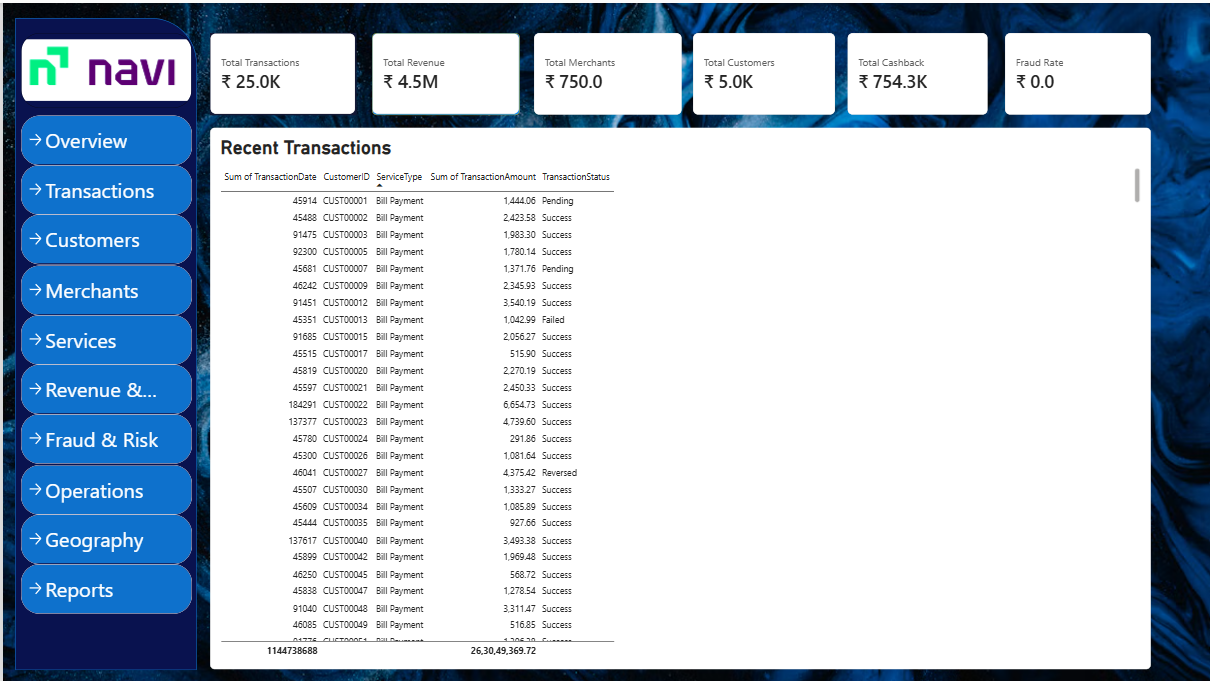

What the dashboard file says about the page in this screenshot:
{"tool":"powerbi","page":{"name":"Operations","canvas":[1920,1080],"ordinal":8},"visuals":[{"type":"cardVisual","fields":{"Data":["_Measures.Total Transactions"]},"box":[328.8,48.2,232.4,130.4],"z":0},{"type":"cardVisual","fields":{"Data":["_Measures.Total Revenue"]},"box":[586.8,48.2,235.3,130.4],"z":1000},{"type":"cardVisual","fields":{"Data":["_Measures.Total Merchants"]},"box":[844.7,48.2,235.3,130.4],"z":2000},{"type":"cardVisual","fields":{"Data":["_Measures.Total Customers"]},"box":[1097,48.2,226.8,130.4],"z":3000},{"type":"cardVisual","fields":{"Data":["_Measures.Total Cashback"]},"box":[1343.6,48.2,223.9,130.4],"z":4000},{"type":"cardVisual","fields":{"Data":["_Measures.Fraud Rate"]},"box":[1593.1,48.2,232.4,130.4],"z":5000},{"type":"tableEx","title":"Recent Transactions","fields":{"Values":["Sum(FactTransactions.TransactionDate)","FactTransactions.CustomerID","FactTransactions.ServiceType","Sum(FactTransactions.TransactionAmount)","FactTransactions.TransactionStatus"]},"box":[328.8,198.4,1496.7,861.7],"z":12000},{"type":"shape","box":[19.8,22.7,289.1,1037.5],"z":16000},{"type":"image","box":[28.3,48.2,272.1,119.1],"z":17000},{"type":"actionButton","box":[28.3,178.6,272.1,79.4],"z":18000},{"type":"actionButton","box":[28.3,258,272.1,79.4],"z":19000},{"type":"actionButton","box":[28.3,734.2,272.1,79.4],"z":20000},{"type":"actionButton","box":[28.3,654.8,272.1,79.4],"z":21000},{"type":"actionButton","box":[28.3,575.4,272.1,79.4],"z":22000},{"type":"actionButton","box":[28.3,337.3,272.1,79.4],"z":23000},{"type":"actionButton","box":[28.3,416.7,272.1,79.4],"z":24000},{"type":"actionButton","box":[28.3,496.1,272.1,79.4],"z":25000},{"type":"actionButton","box":[28.3,813.5,272.1,79.4],"z":26000},{"type":"actionButton","box":[28.3,892.9,272.1,79.4],"z":27000}]}

Visuals, with their boxes on the page's 1920x1080 design canvas (x1, y1, x2, y2). These are canvas units, not pixel positions in the 1210x681 screenshot, which may show the page scaled, cropped or inside an application window:
cardVisual - _Measures.Total Transactions: <box>329,48,561,179</box>
cardVisual - _Measures.Total Revenue: <box>587,48,822,179</box>
cardVisual - _Measures.Total Merchants: <box>845,48,1080,179</box>
cardVisual - _Measures.Total Customers: <box>1097,48,1324,179</box>
cardVisual - _Measures.Total Cashback: <box>1344,48,1568,179</box>
cardVisual - _Measures.Fraud Rate: <box>1593,48,1826,179</box>
"Recent Transactions" tableEx: <box>329,198,1826,1060</box>
shape: <box>20,23,309,1060</box>
image: <box>28,48,300,167</box>
actionButton: <box>28,179,300,258</box>
actionButton: <box>28,258,300,337</box>
actionButton: <box>28,734,300,814</box>
actionButton: <box>28,655,300,734</box>
actionButton: <box>28,575,300,655</box>
actionButton: <box>28,337,300,417</box>
actionButton: <box>28,417,300,496</box>
actionButton: <box>28,496,300,576</box>
actionButton: <box>28,814,300,893</box>
actionButton: <box>28,893,300,972</box>
